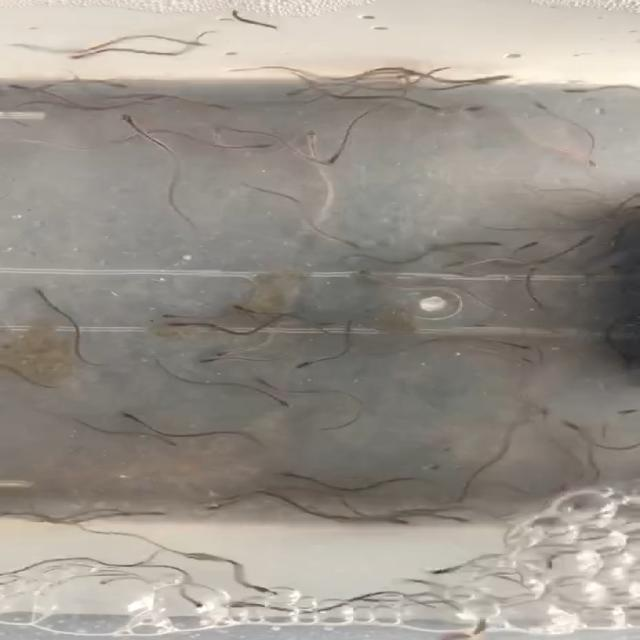active_glass_eel: (430, 560, 477, 576), (305, 153, 339, 173), (246, 374, 282, 392), (562, 415, 590, 436), (328, 147, 353, 170), (297, 129, 325, 149), (281, 468, 316, 484), (6, 80, 43, 95), (244, 582, 280, 596), (278, 86, 316, 99), (207, 501, 239, 516), (533, 406, 561, 423), (202, 104, 245, 115), (31, 286, 61, 301), (154, 433, 183, 448), (208, 120, 233, 137), (114, 408, 144, 422), (456, 102, 488, 115), (97, 80, 134, 91), (384, 69, 411, 84), (526, 95, 551, 111), (343, 238, 368, 254), (480, 71, 512, 83), (67, 48, 98, 60), (114, 111, 140, 125), (274, 398, 302, 411), (382, 515, 410, 528), (442, 513, 470, 526), (225, 301, 255, 313), (177, 39, 209, 50), (468, 79, 500, 90), (294, 358, 323, 370), (475, 237, 501, 250), (160, 320, 188, 332), (198, 354, 222, 368), (420, 102, 456, 111), (94, 576, 126, 586), (611, 406, 640, 417), (254, 141, 277, 154), (443, 261, 467, 273), (212, 348, 238, 359), (558, 86, 586, 96), (162, 311, 190, 321), (512, 354, 535, 366), (190, 597, 208, 612), (355, 266, 377, 278), (573, 233, 595, 244), (545, 408, 553, 438), (581, 157, 599, 170), (516, 343, 536, 354), (520, 238, 538, 250)
